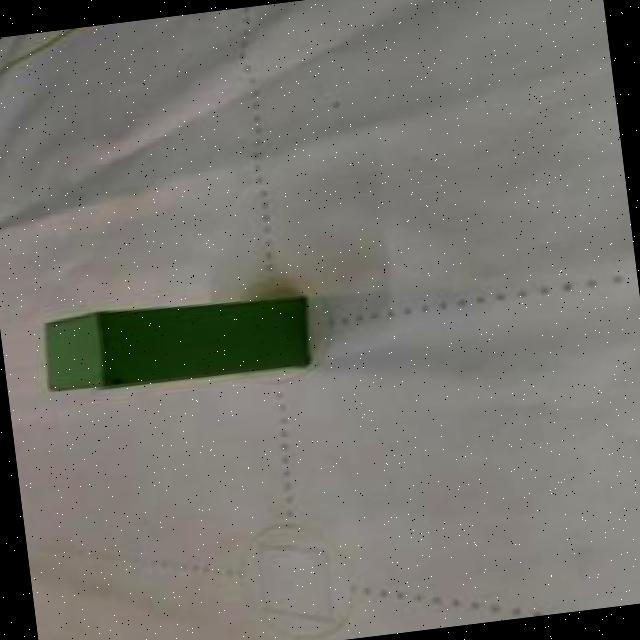greenbox: (33, 284, 312, 402)
